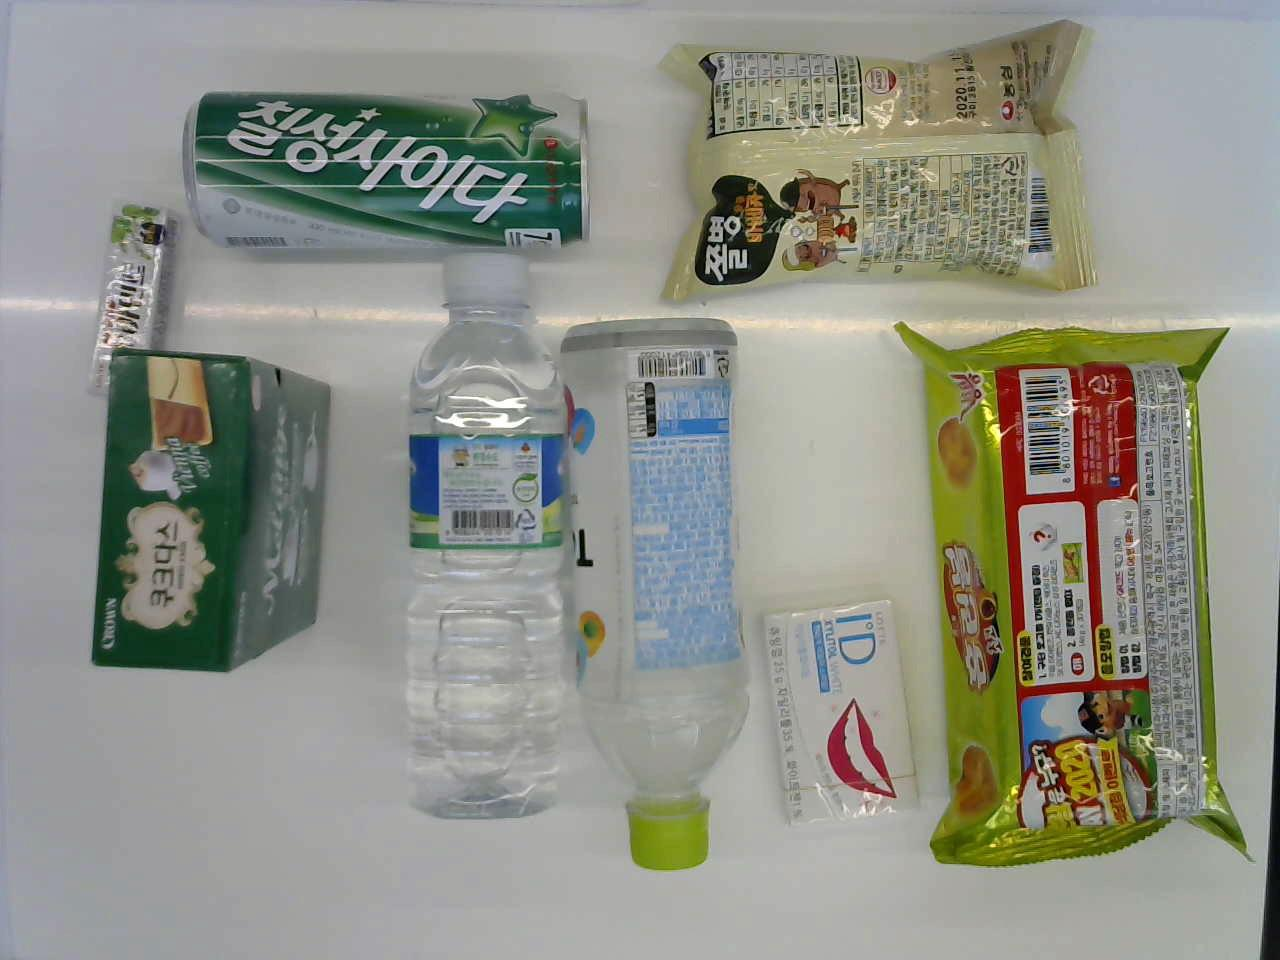ID_gum: (749, 576, 909, 834)
cidar: (156, 56, 593, 255)
couque_coffee: (99, 344, 342, 693)
homerunball: (931, 314, 1230, 870)
jjolbyung_ori: (659, 36, 1096, 295)
samdasu: (389, 237, 577, 851)
spearmint: (80, 167, 160, 405)
toreta: (564, 304, 752, 918)
